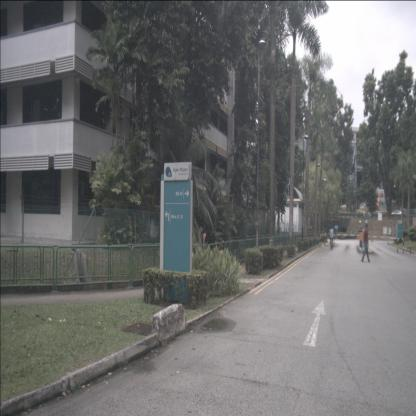human-pedestrian-adult: (361, 223, 371, 263)
vehicle-bicycle: (329, 224, 334, 250)
vehicle-car: (391, 210, 402, 217)
